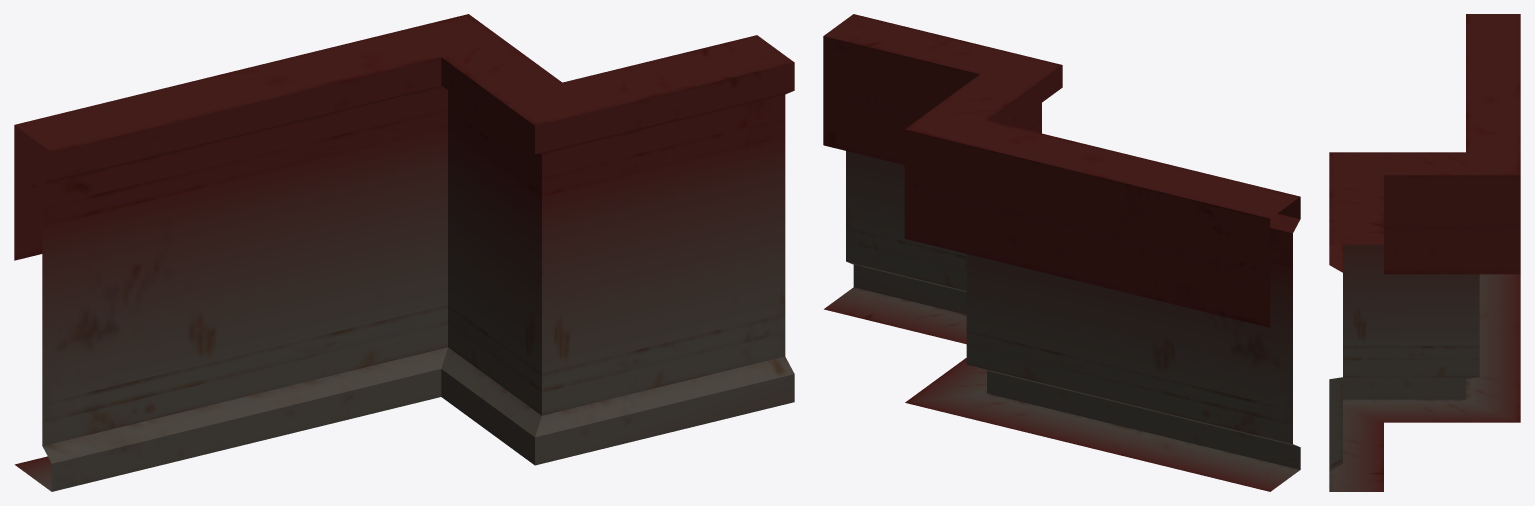
The model's file is cornice_metal_90angle_r.glb.
3 views of the same model, side by side, from view 1: azimuth 30°, elevation 25°; view 2: azimuth 150°, elevation 25°; view 3: azimuth 270°, elevation 25° (orthographic). The views are drawn at different scales.
Visible parts, largest first — view 1: Cornice_Metal_90Angle_R; view 2: Cornice_Metal_90Angle_R; view 3: Cornice_Metal_90Angle_R.
Part boxes in pixels (x1,y1,x2,y2): Cornice_Metal_90Angle_R: (14,14,794,491); Cornice_Metal_90Angle_R: (823,14,1300,491); Cornice_Metal_90Angle_R: (1329,14,1520,491).
Bounding box in the file's own units: 2 × 1 × 0.7.
Materials: 1 (1 with a texture image).
